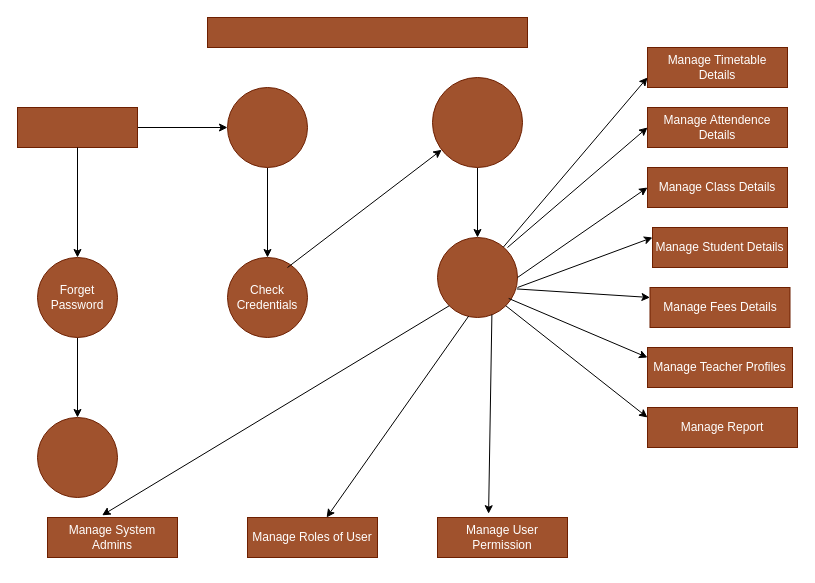
Some shapes in this 815 by 583 pixel diagram are drawn without their labels. The shapes that lost their labels are listed below. From the top down, each one's box as (x1, y1, x2, y2) in pixels, then its label:
(206, 16, 528, 48): Student Information System
(16, 106, 138, 148): Admin
(226, 86, 308, 168): Login to System
(432, 76, 522, 168): Check Roles Of Access
(436, 236, 518, 318): Manage Modules
(36, 416, 118, 498): Send Email To User
